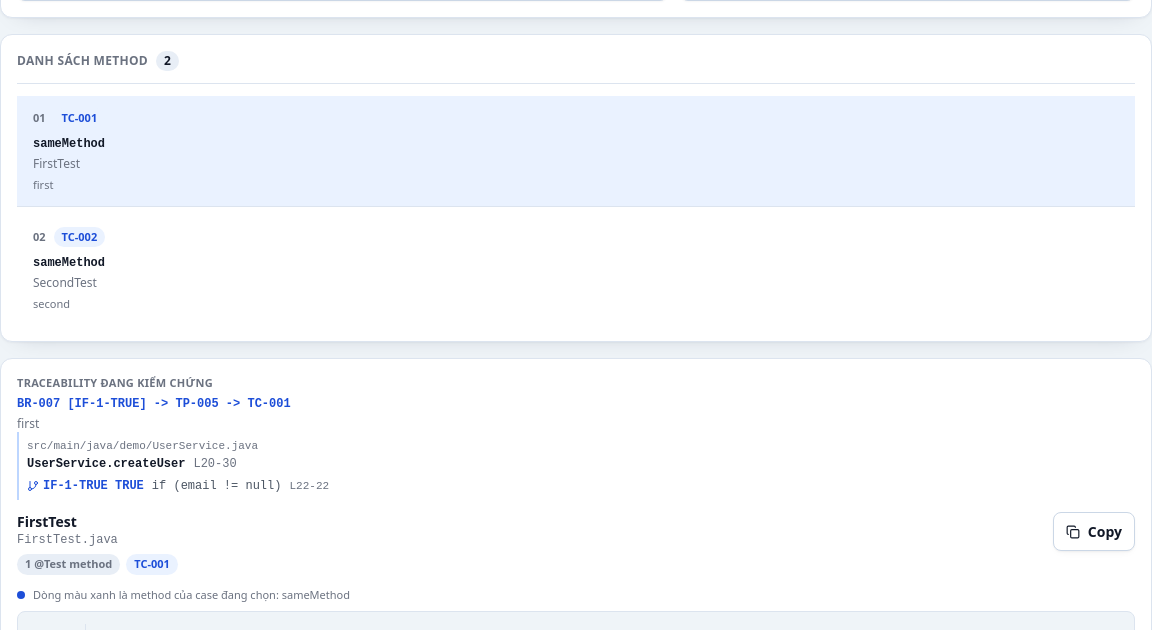
Test case: UnitTestsPanel › scrolls again when two files use the same method name and line
(page scrolled)
Click the button "02 TC-002 sameMethod SecondTest second": click(79, 237) [17,215,1135,325]
(page scrolled)
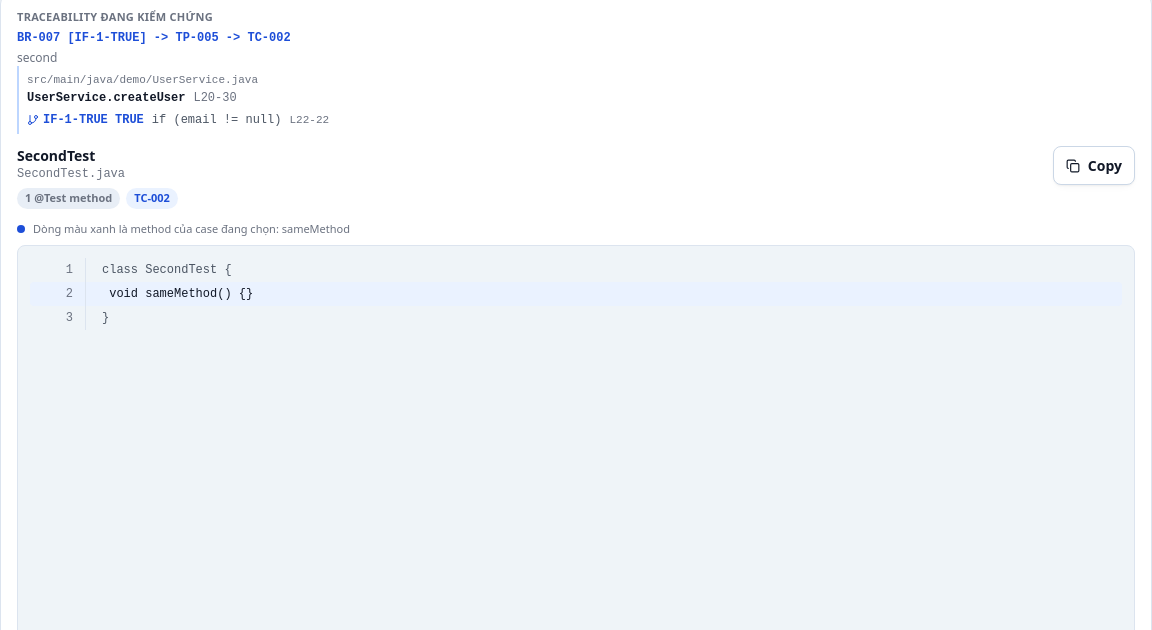
Expected: the text "class SecondTest {" is shown, [102,263,232,277]
